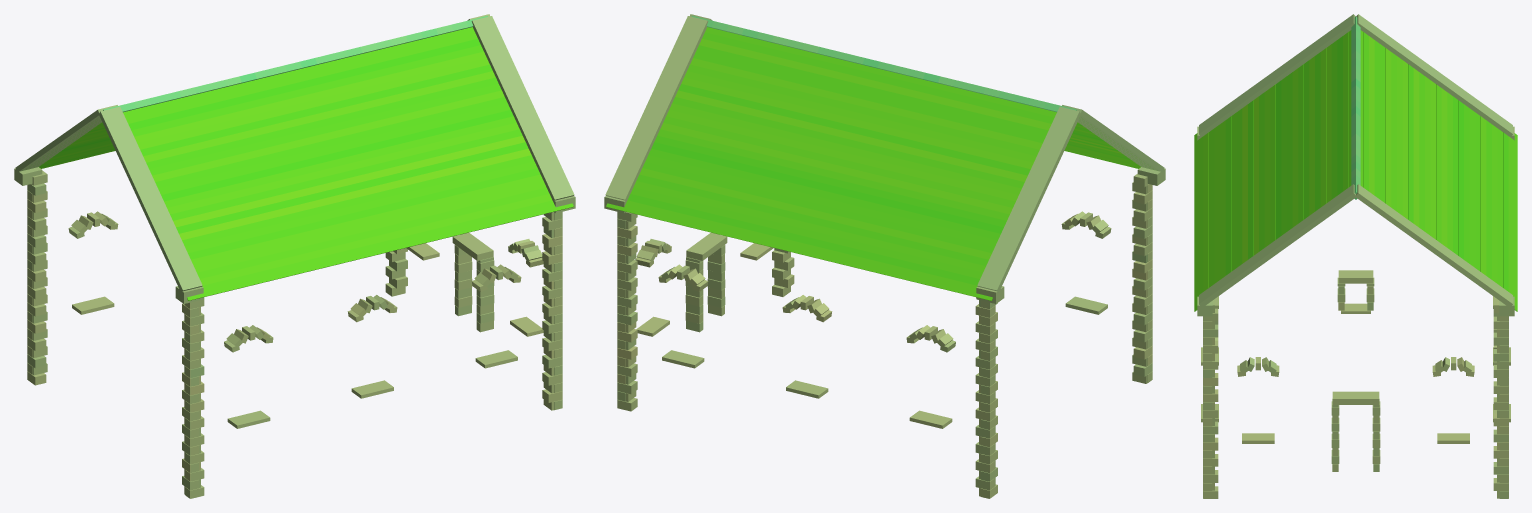
The model's file is SM_Bld_082_Stone.glb.
3 views of the same model, side by side, from view 1: azimuth 30°, elevation 25°; view 2: azimuth 150°, elevation 25°; view 3: azimuth 270°, elevation 25° (orthographic). The views are drawn at different scales.
Visible parts, largest first — view 1: SM_Bld_082_Stone; view 2: SM_Bld_082_Stone; view 3: SM_Bld_082_Stone.
Boxes of the visible parts, box(x1,y1,x2,y2) form: SM_Bld_082_Stone: box(14, 14, 575, 498); SM_Bld_082_Stone: box(604, 14, 1165, 498); SM_Bld_082_Stone: box(1194, 14, 1517, 498).
Bounding box in the file's own units: 14.26 × 11.52 × 10.88.
